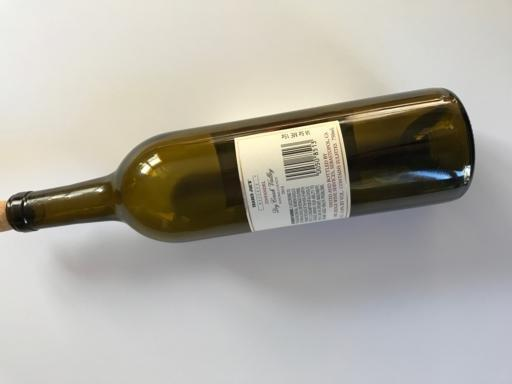botolkaca: (1, 87, 475, 243)
